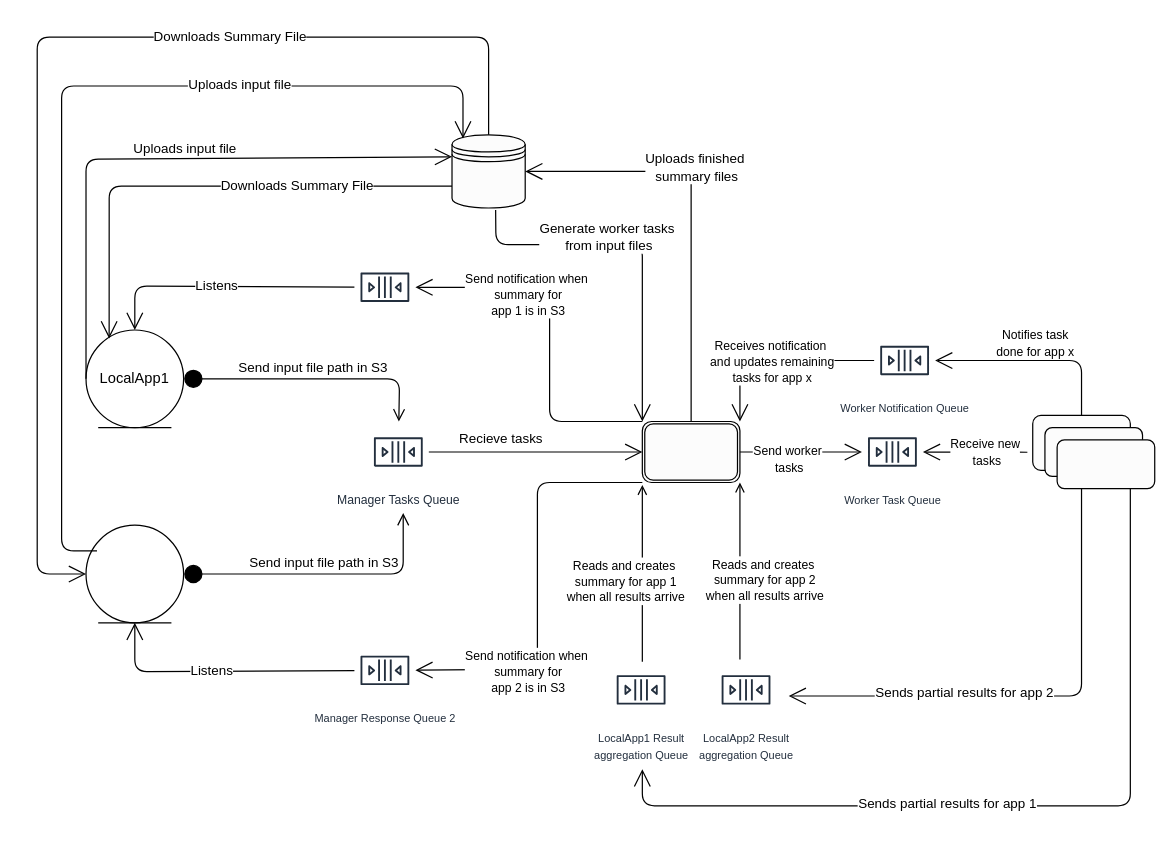
Some shapes in this 1176 by 844 pixel diagram are drawn without their labels. Each missing label, with the centre of its shape:
"LocalApp2" belongs at (x=134, y=573).
"Manager" belongs at (x=690, y=451).
"Manager Response Queue 1" belongs at (x=384, y=287).
"S3" belongs at (x=488, y=171).
"Workers" belongs at (x=1105, y=464).
